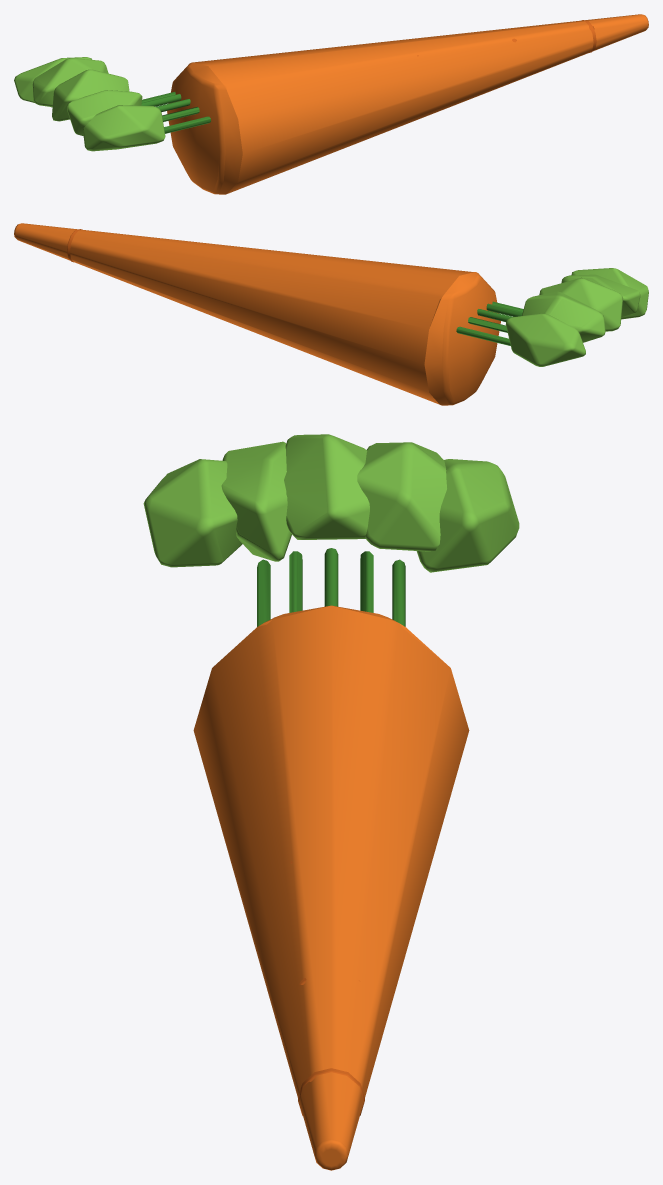
The model's file is Carrot.glb.
The picture shows the model from 3 angles, top to bottom: view 1: azimuth 30°, elevation 25°; view 2: azimuth 150°, elevation 25°; view 3: azimuth 270°, elevation 25°; orthographic projection. The views are drawn at different scales.
Parts seen in each view (by area): view 1: Carrot; view 2: Carrot; view 3: Carrot.
Boxes of the visible parts, <box> form: Carrot: <box>14,14,648,194</box>; Carrot: <box>14,223,648,405</box>; Carrot: <box>143,434,519,1170</box>.
Size of the model in its own units: 0.2997 by 0.0724 by 0.0818.
